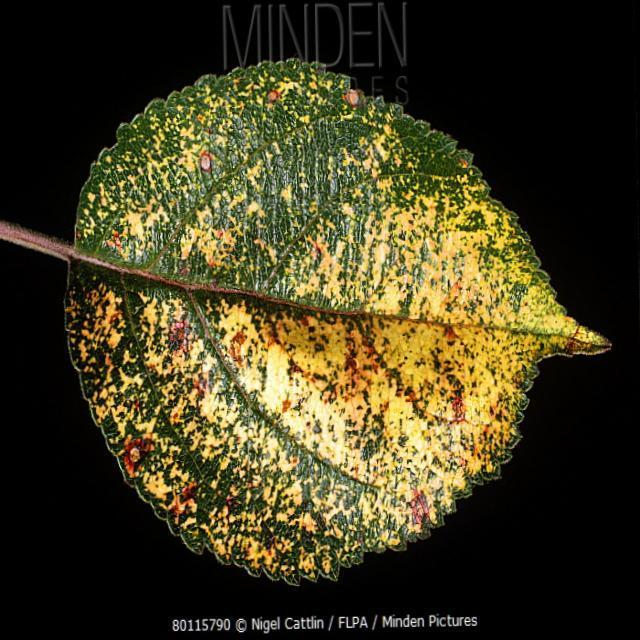Mosaic Virus: (74, 84, 573, 552)
